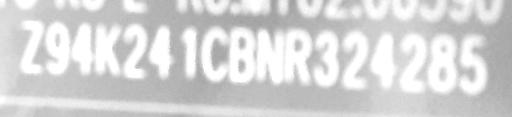letter: (457, 31, 491, 98), (282, 25, 314, 88), (368, 28, 400, 91), (427, 32, 459, 95), (398, 29, 428, 94), (200, 23, 230, 86), (340, 29, 370, 92), (254, 25, 284, 86), (312, 26, 340, 89), (93, 20, 123, 77), (228, 24, 256, 85), (148, 23, 176, 82), (16, 18, 44, 75), (43, 20, 71, 77), (70, 19, 96, 80), (121, 22, 147, 81), (176, 23, 200, 82)
